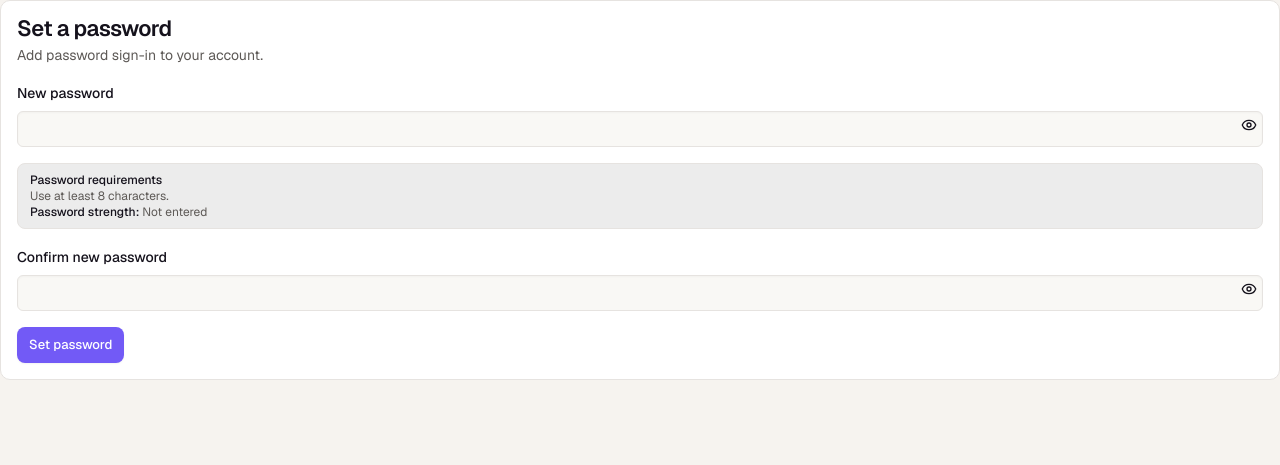
PasswordSetupForm › reports confirmation mismatch
Type "new-secret" into the password field labelled "New password" at (640, 129), box x1=17 y1=111 x2=1263 y2=147
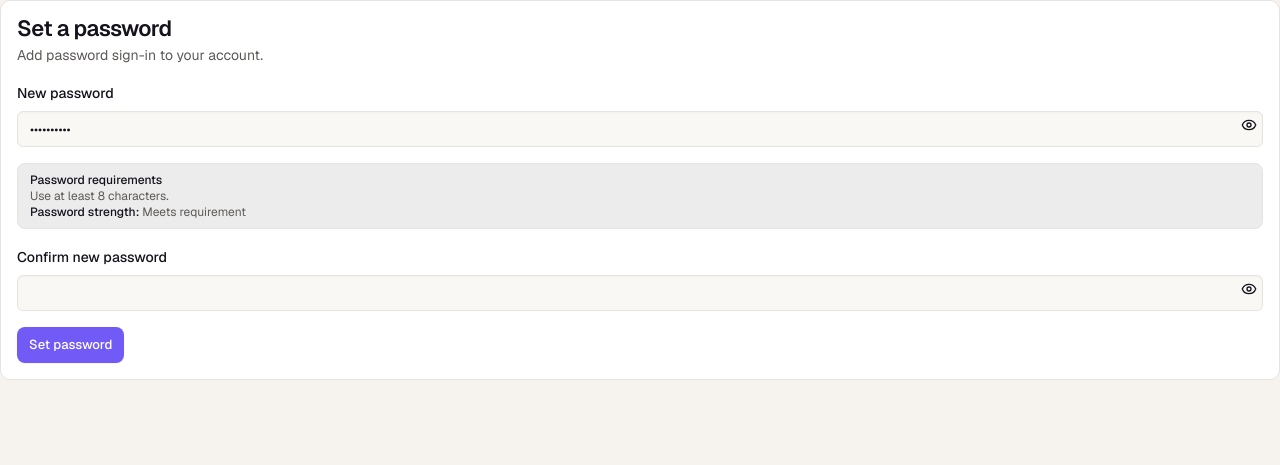
Type "different" into the password field labelled "Confirm new password" at (640, 293), box x1=17 y1=275 x2=1263 y2=311
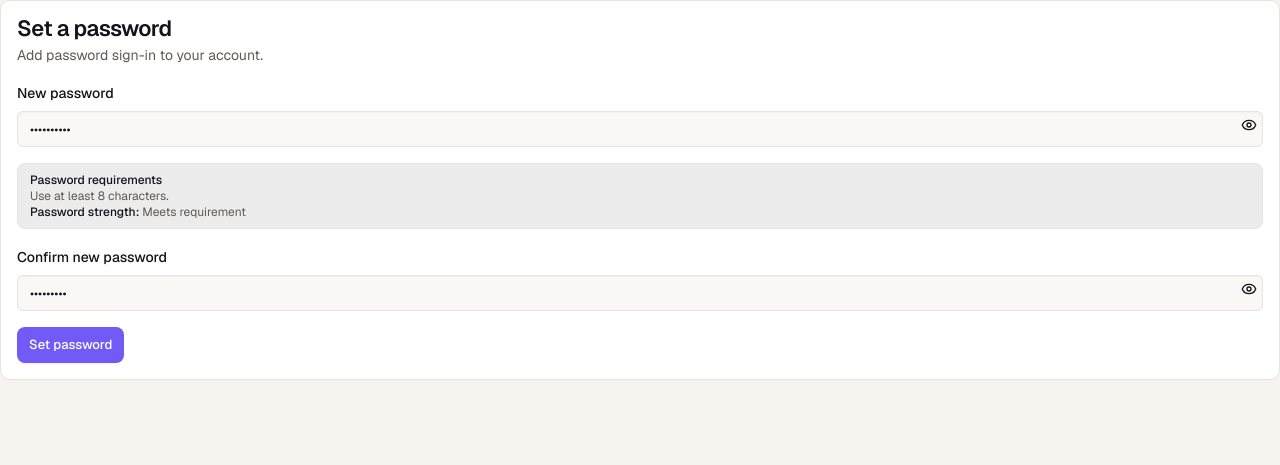
Click the button "Set password" at (71, 345), box x1=17 y1=327 x2=124 y2=363
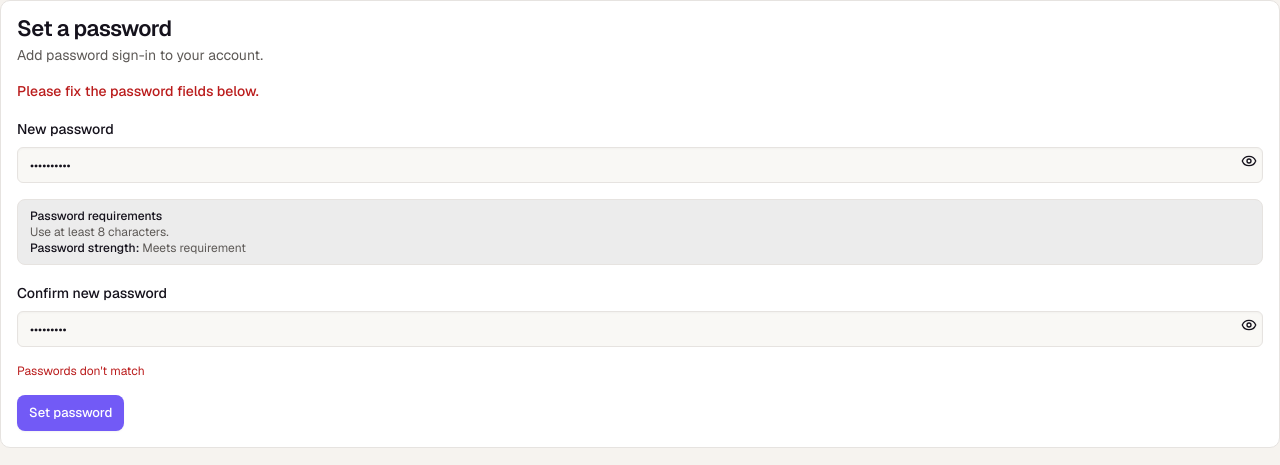
Expected: the text "Passwords don't match" is shown, x1=17 y1=363 x2=145 y2=379
